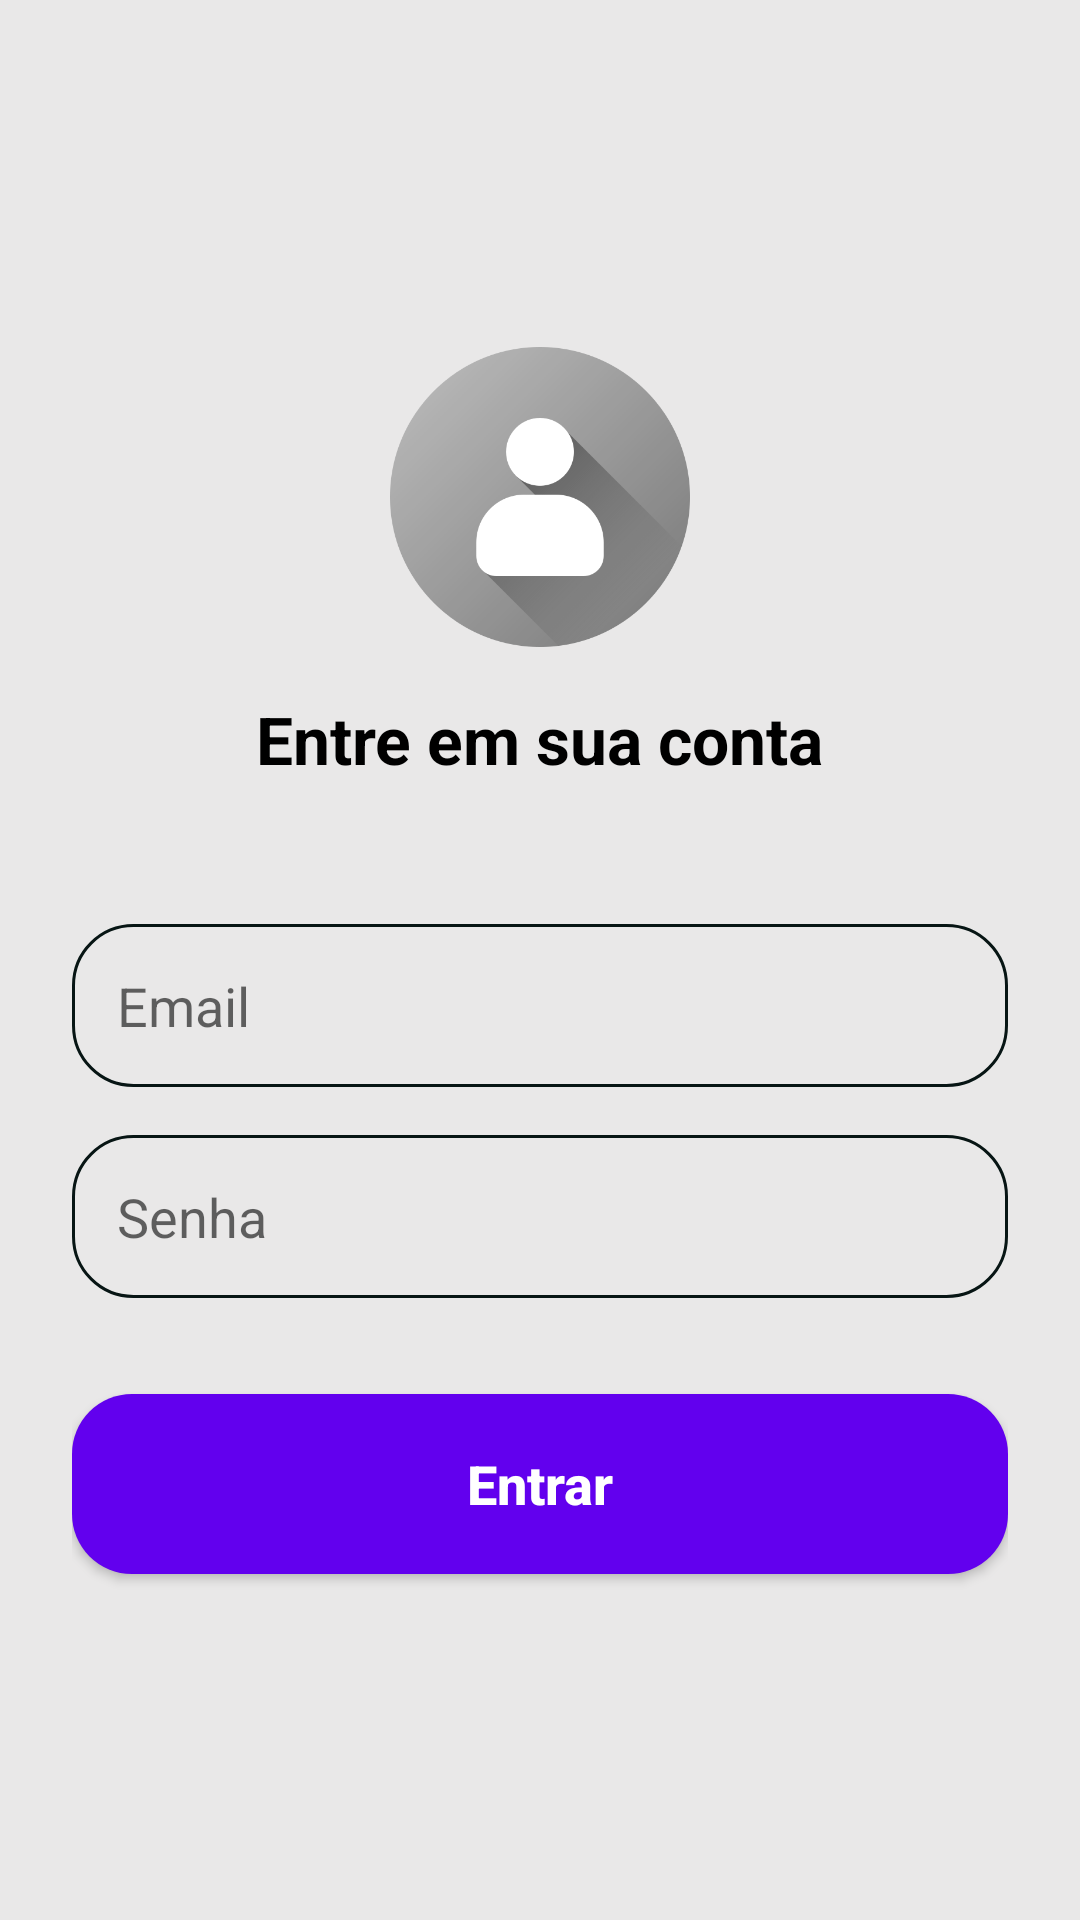

Icon bounding boxes for this 1080px x 1920px phone screenshot, format (x1, y1, x2, y2):
user: (390, 347, 690, 647)
